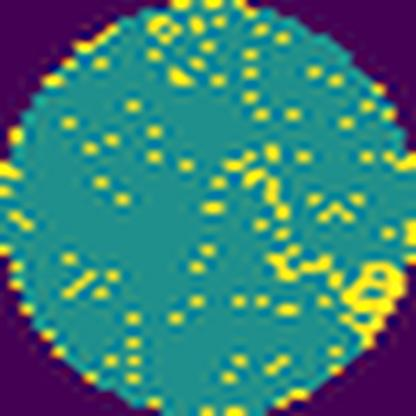Edge-Loc: (338, 254, 408, 352)
